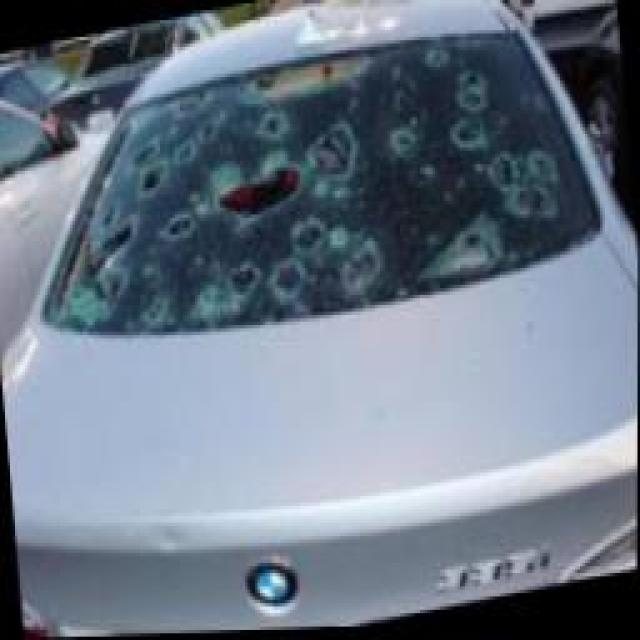replaceable: (75, 64, 593, 334)
